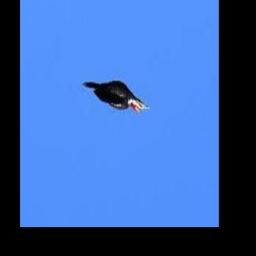Woodpecker: (83, 81, 150, 115)
